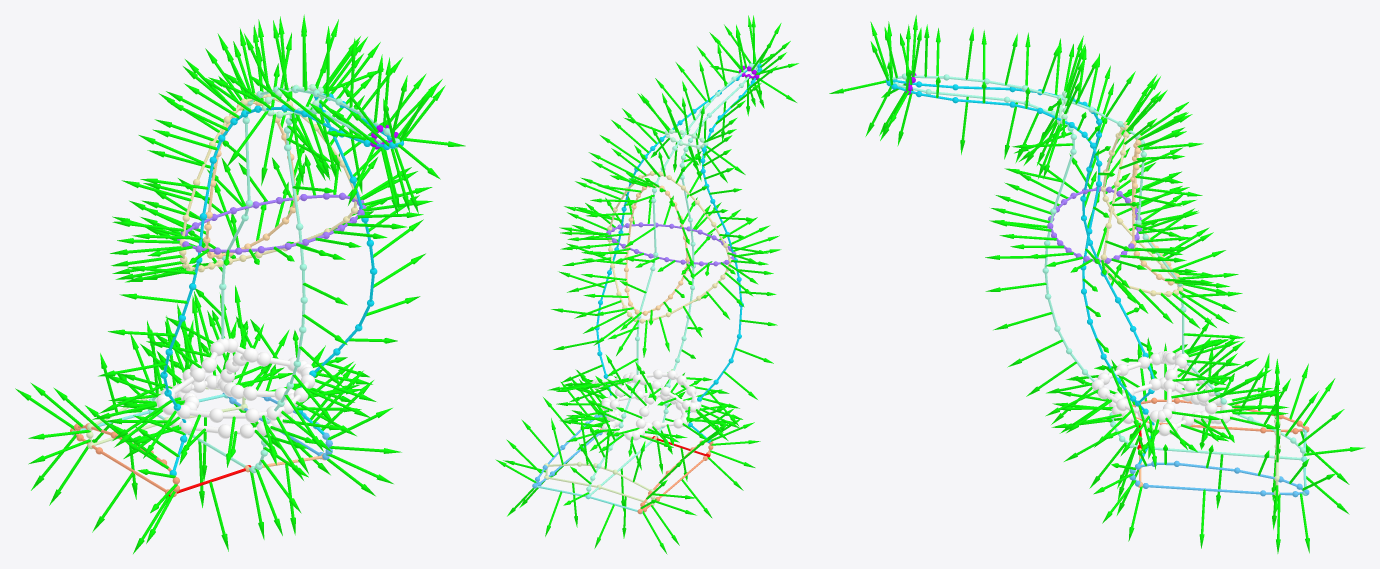
File: t2f_vacuum.gltf
3 renders of one model, left to right at view 1: azimuth 30°, elevation 25°; view 2: azimuth 150°, elevation 25°; view 3: azimuth 270°, elevation 25°, orthographic. The views are drawn at different scales.
Bounding box in the file's own units: 0.5045 × 0.8708 × 0.8559.
